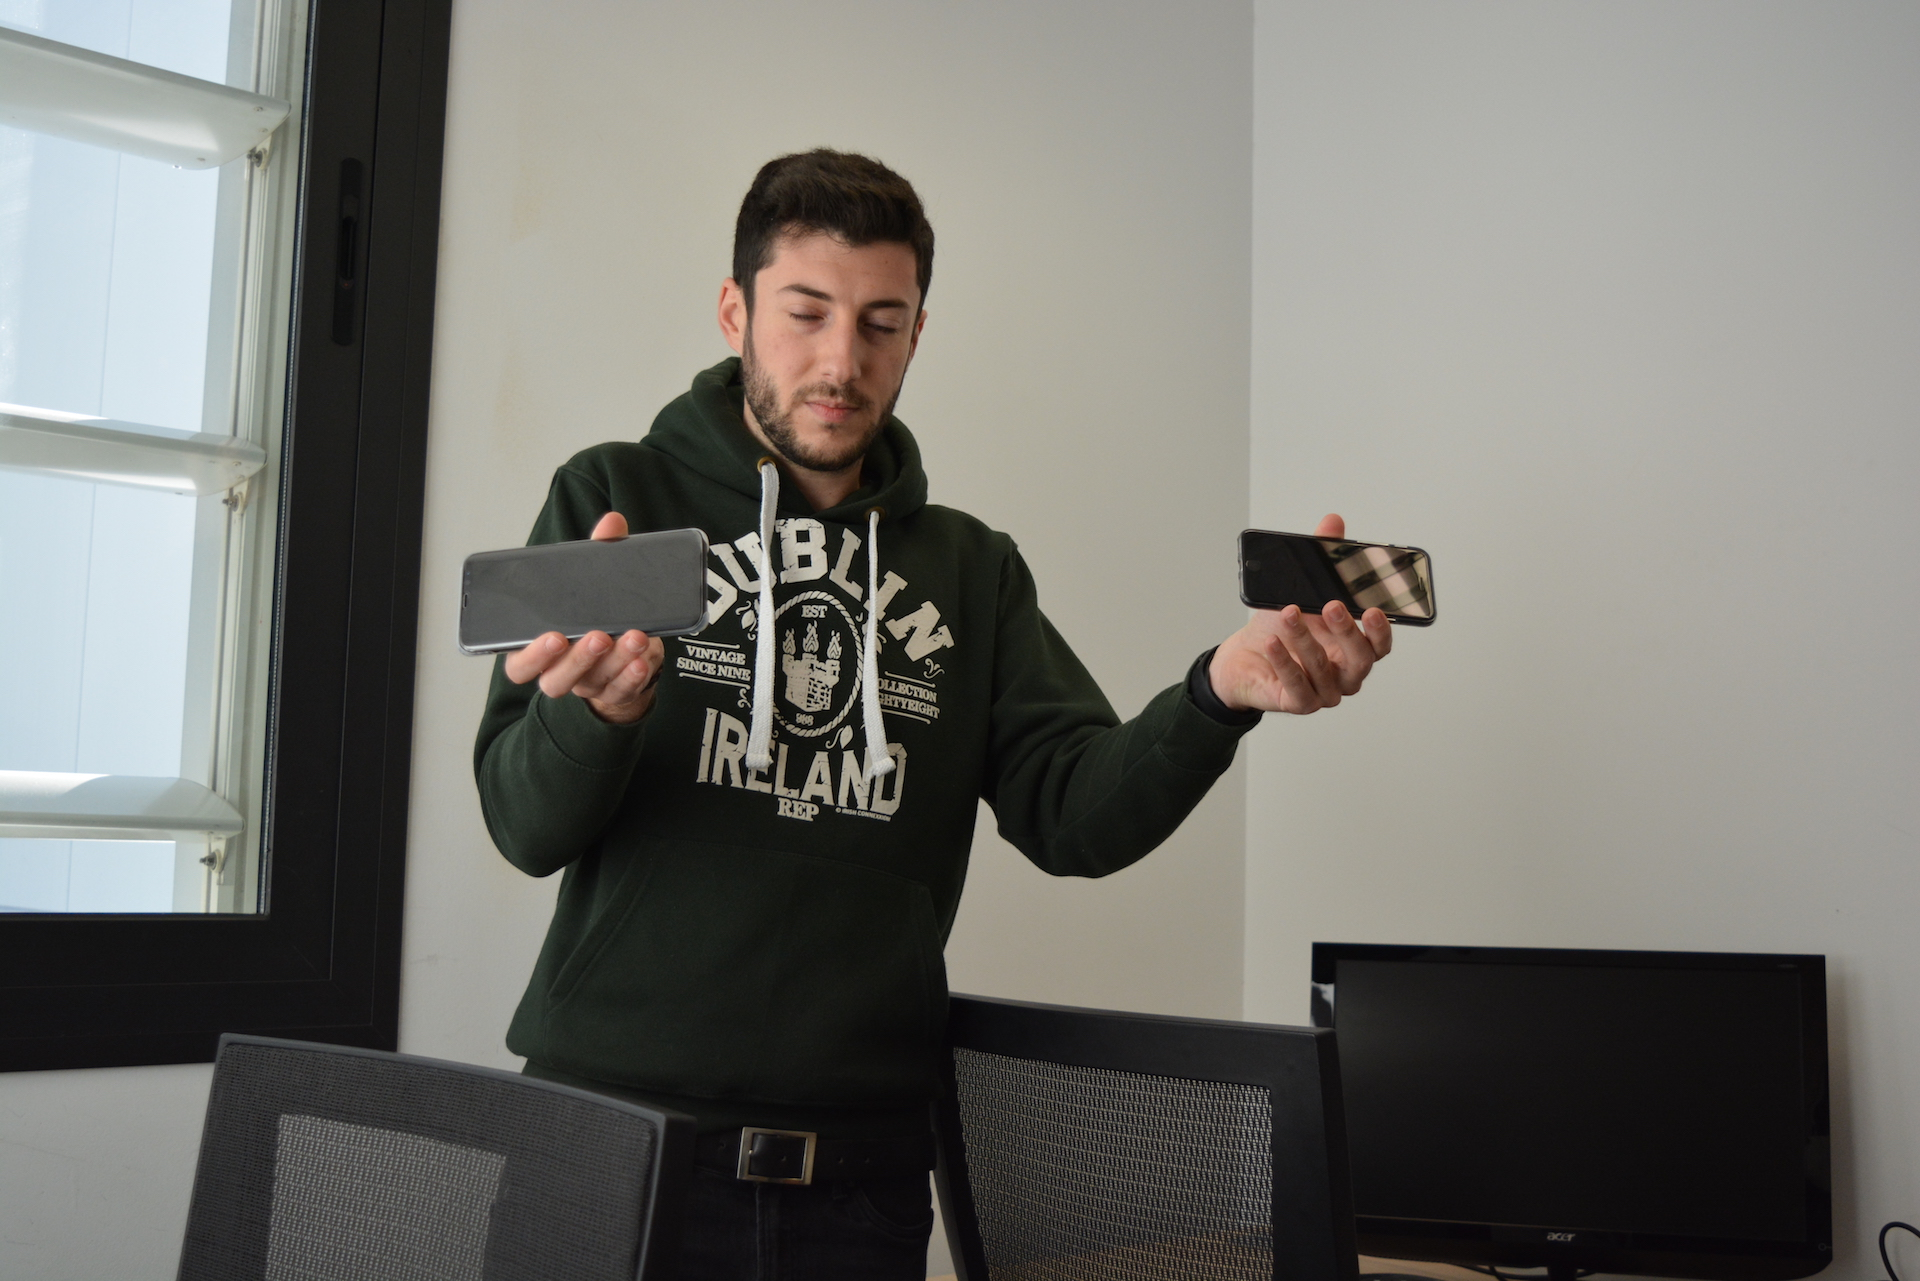smartphone: (457, 525, 711, 658), (1237, 528, 1440, 628)
